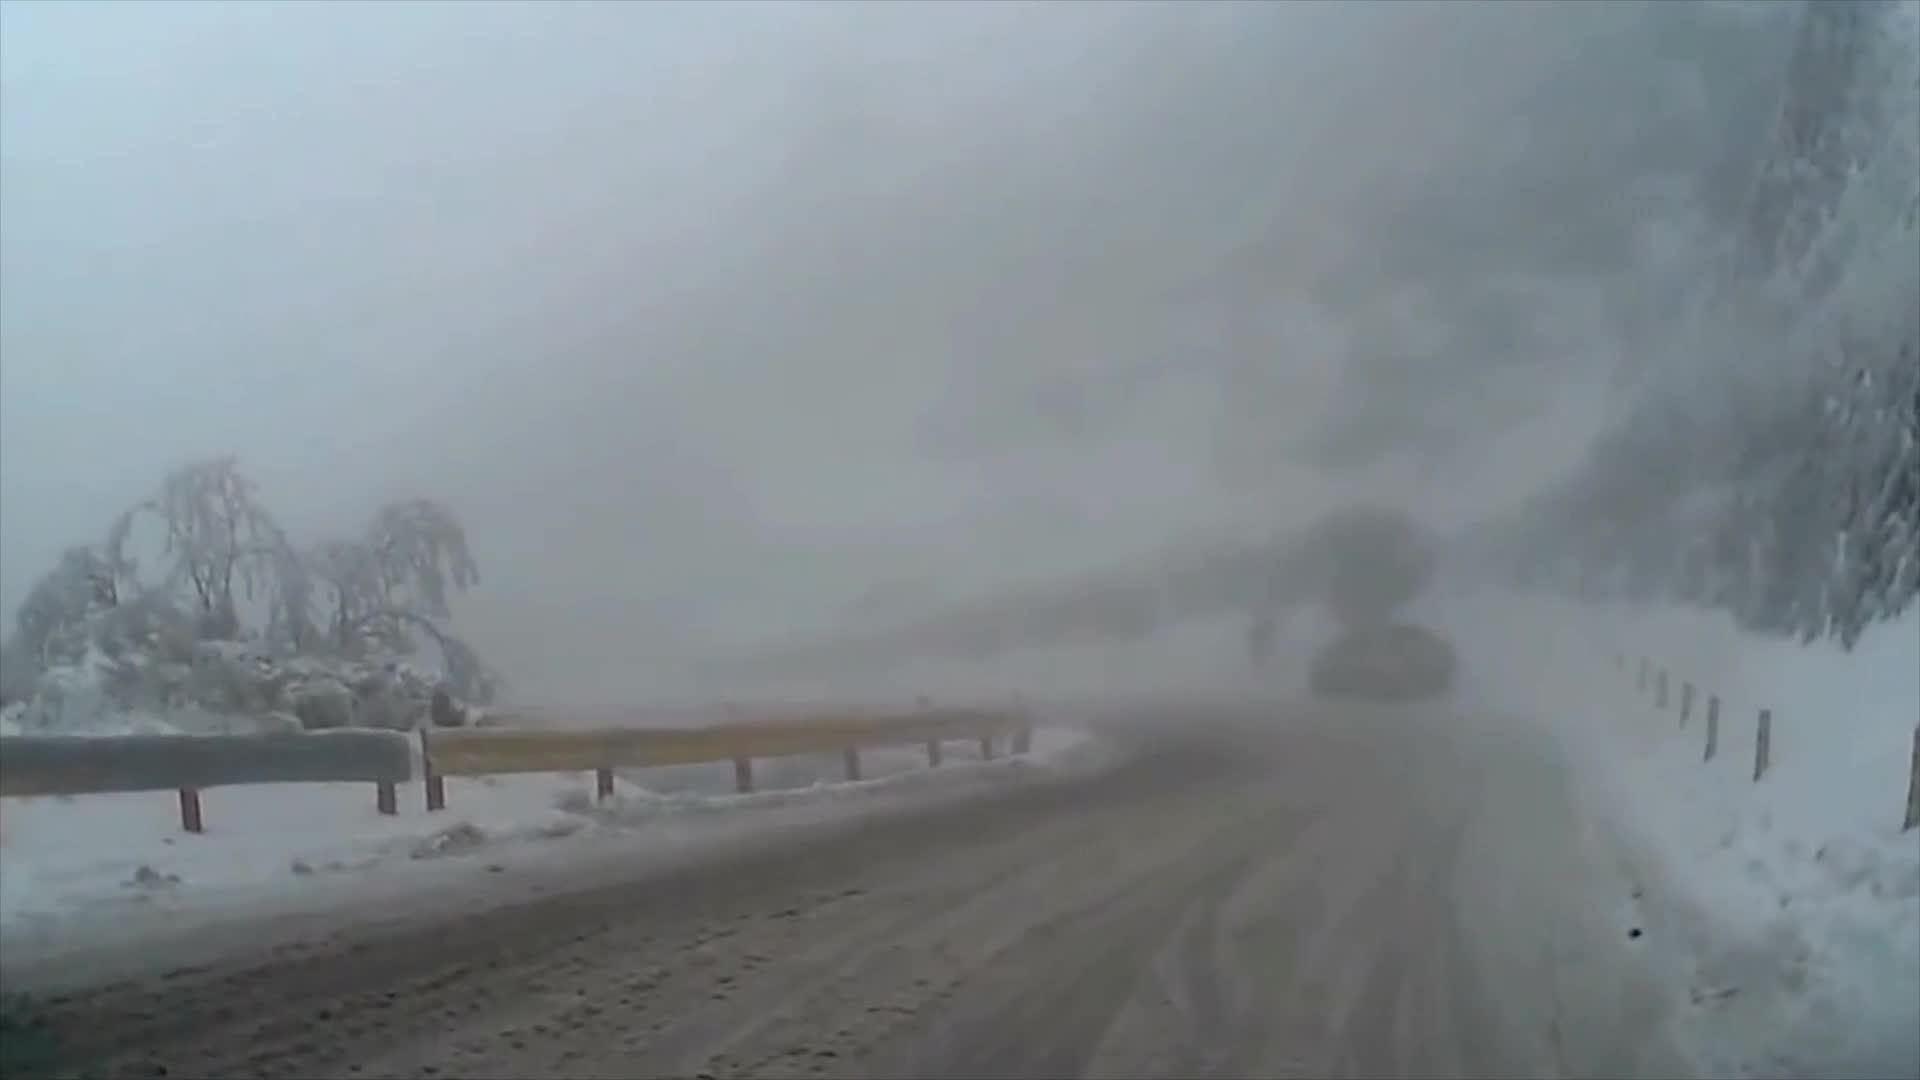vehicle: (1307, 621, 1457, 702)
